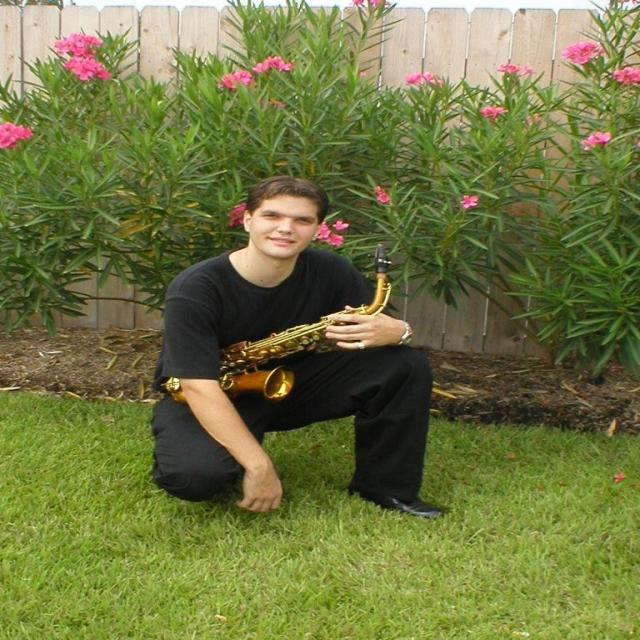saxophone: (154, 244, 403, 400)
